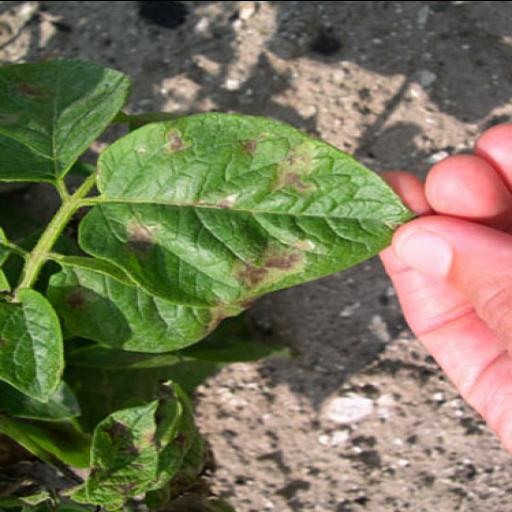Late Blight: (72, 110, 414, 310)
